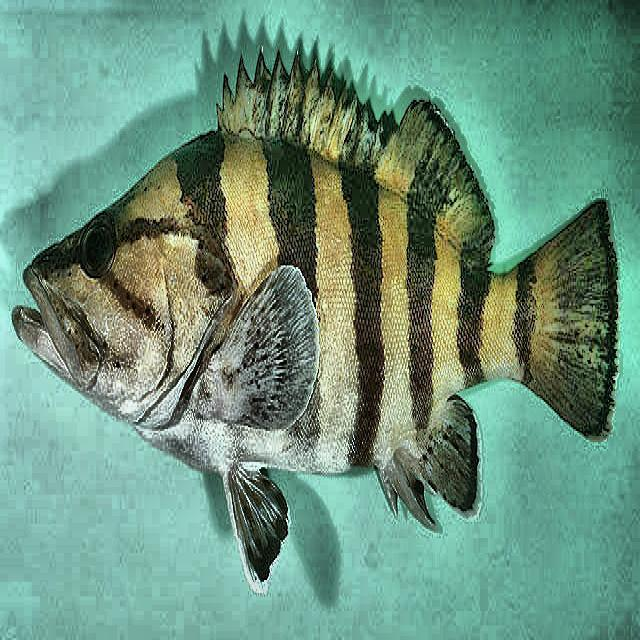fish: (12, 48, 620, 595)
